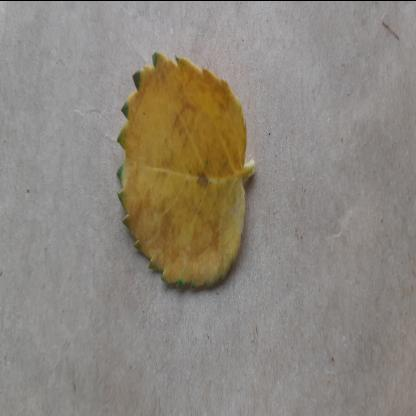black-spot: (116, 45, 248, 303)
